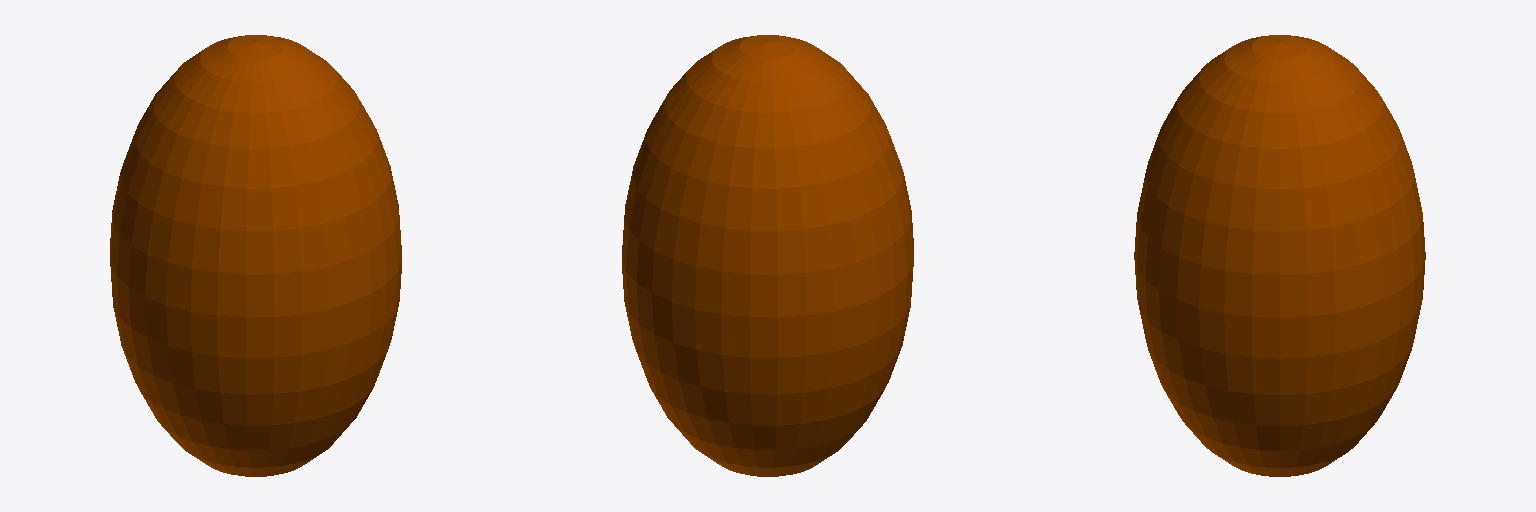
Rendered from moya_freg_o.obj.
3 views of the same model, side by side, from view 1: azimuth 30°, elevation 25°; view 2: azimuth 150°, elevation 25°; view 3: azimuth 270°, elevation 25° (orthographic).
Parts seen in each view (by area): view 1: Sphere_Sphere.005_Sphere_Sphere.006; view 2: Sphere_Sphere.005_Sphere_Sphere.006; view 3: Sphere_Sphere.005_Sphere_Sphere.006.
Part boxes in pixels (left/top/right/bottom): Sphere_Sphere.005_Sphere_Sphere.006: left=110, top=35, right=401, bottom=476; Sphere_Sphere.005_Sphere_Sphere.006: left=622, top=35, right=913, bottom=476; Sphere_Sphere.005_Sphere_Sphere.006: left=1134, top=35, right=1425, bottom=476.
Bounding box in the file's own units: 0.6891 × 1.1 × 0.6826.